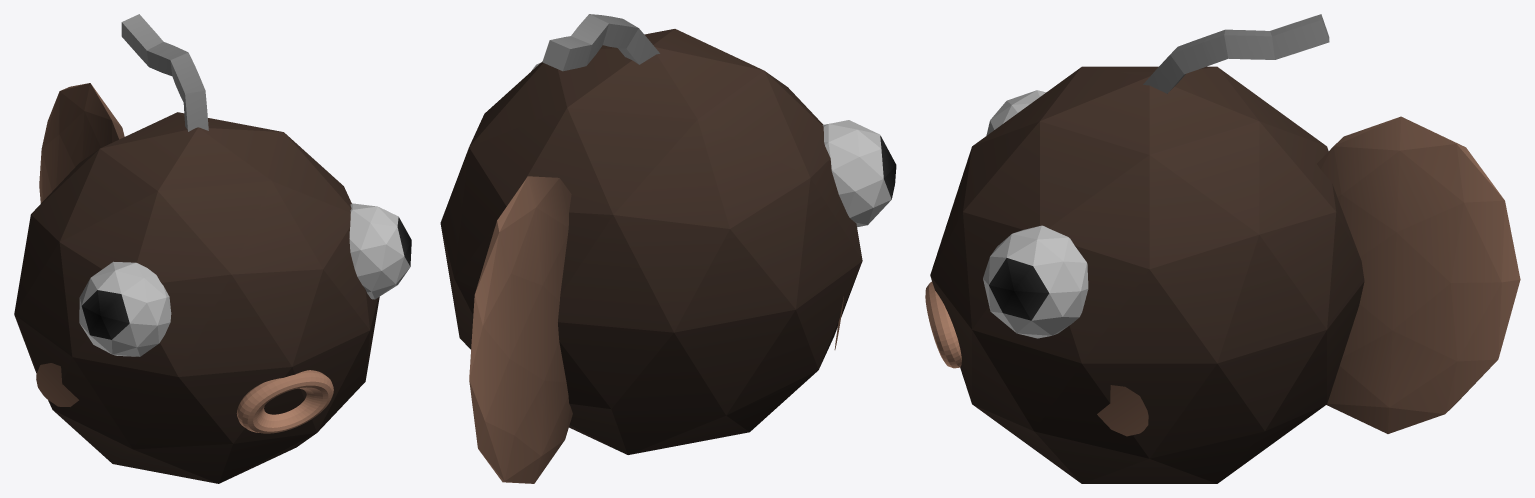
File: exploding_fish.glb
3 views of the same model, side by side, from view 1: azimuth 30°, elevation 25°; view 2: azimuth 150°, elevation 25°; view 3: azimuth 270°, elevation 25° (orthographic). The views are drawn at different scales.
Visible parts, largest first — view 1: Cube.050; view 2: Cube.050; view 3: Cube.050.
Part boxes in pixels (left/top/right/bottom): Cube.050: left=14, top=14, right=411, bottom=483; Cube.050: left=440, top=14, right=896, bottom=483; Cube.050: left=925, top=14, right=1520, bottom=483.
Bounding box in the file's own units: 2 × 2.33 × 2.71.
5 materials, 5 textured.
